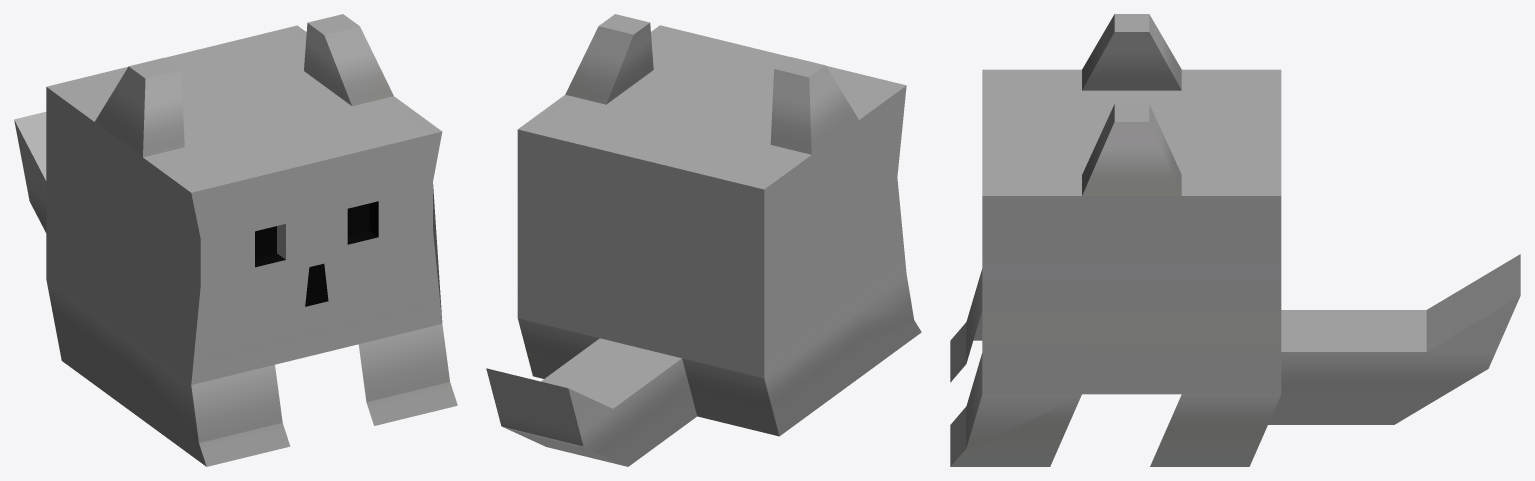
The model's file is EstatuaCat.glb.
The picture shows the model from 3 angles, left to right: view 1: azimuth 30°, elevation 25°; view 2: azimuth 150°, elevation 25°; view 3: azimuth 270°, elevation 25°; orthographic projection. The views are drawn at different scales.
Visible parts, largest first — view 1: EstatuaCat; view 2: EstatuaCat; view 3: EstatuaCat.
Boxes of the visible parts, bbox=[...] form: EstatuaCat: bbox=[14, 14, 457, 466]; EstatuaCat: bbox=[486, 14, 921, 466]; EstatuaCat: bbox=[950, 14, 1520, 466].
Bounding box in the file's own units: 2 × 2.48 × 3.81.
1 material, 1 textured.
